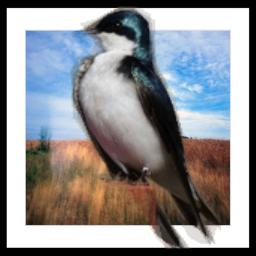Swallow: (70, 6, 221, 249)
